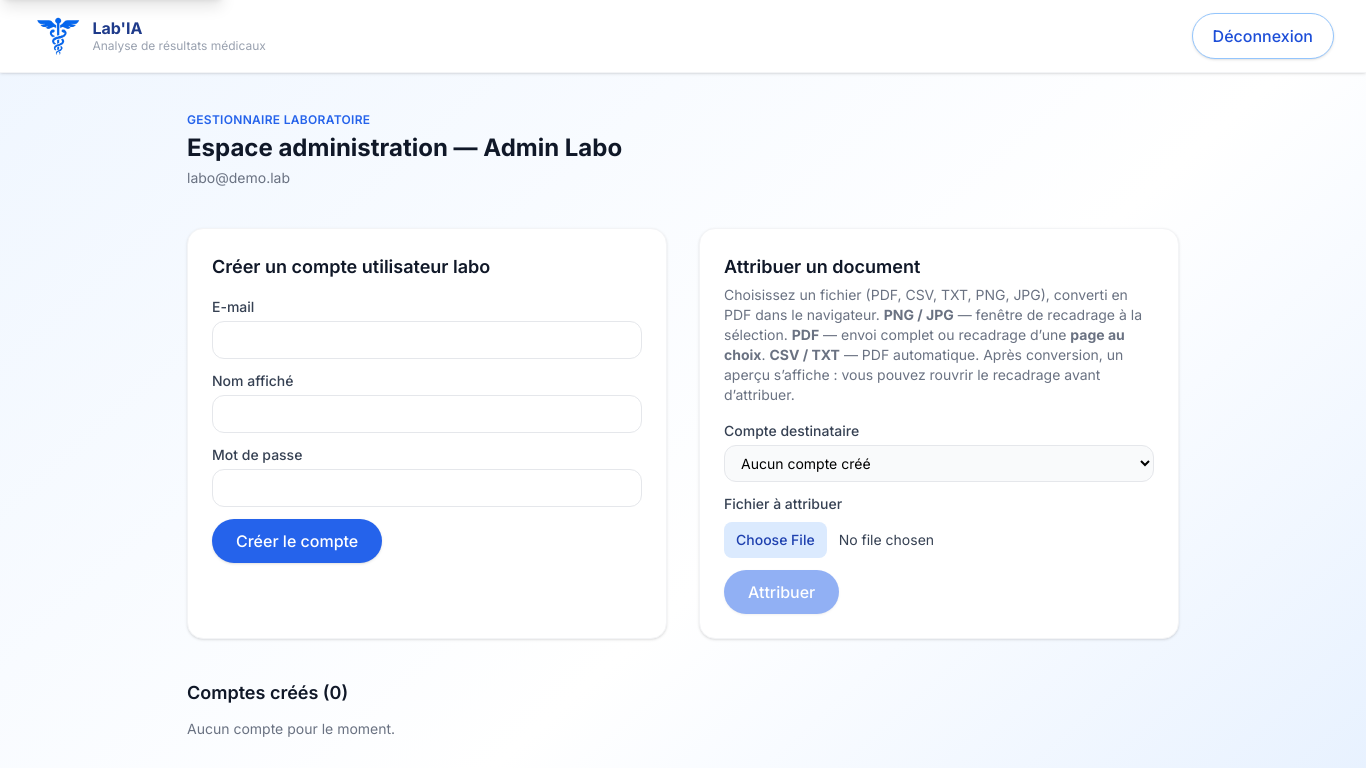
LaboDashboard — intégration › affiche un message d'erreur quand la création de compte échoue
In the field labelled "E-mail": (427, 340) [212,321,642,359], type "alice@test.com"
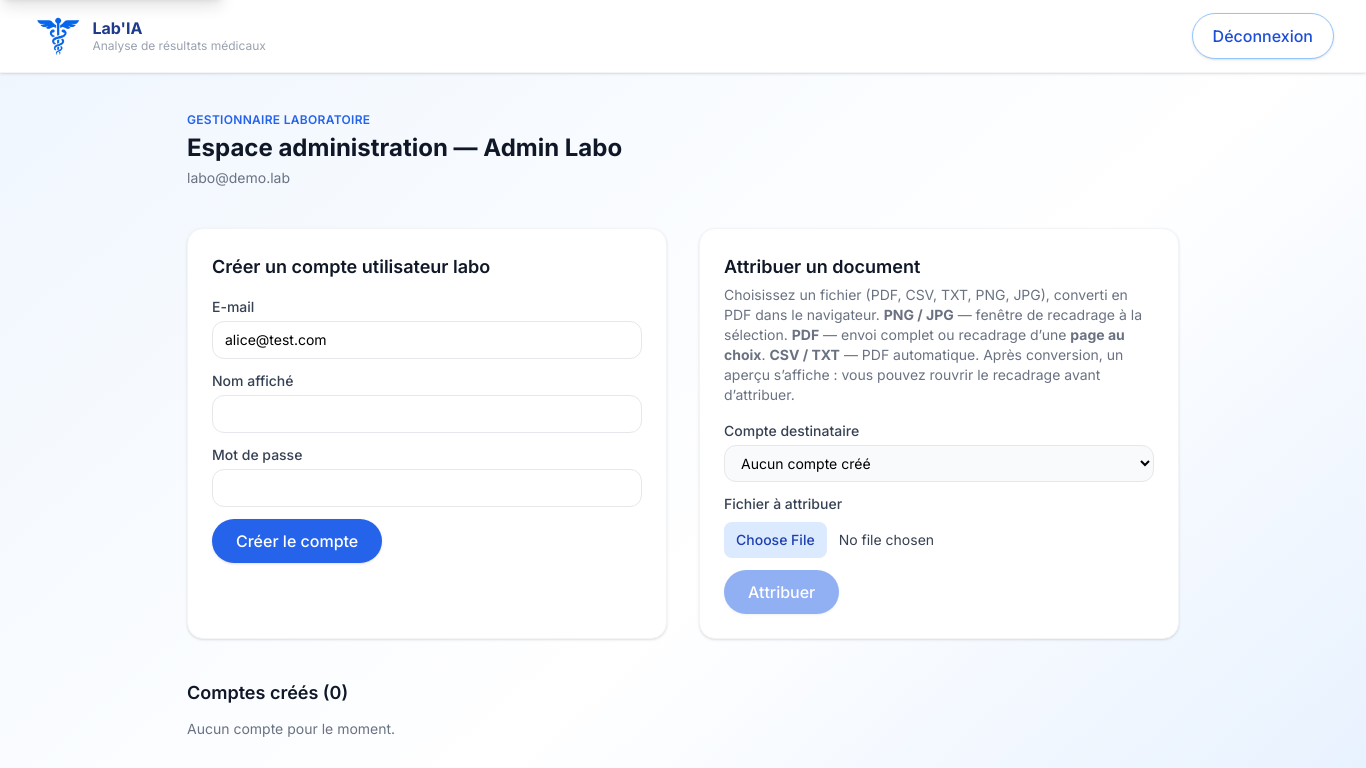
In the field labelled "Nom affiché": (427, 414) [212,395,642,433], type "Alice Martin"
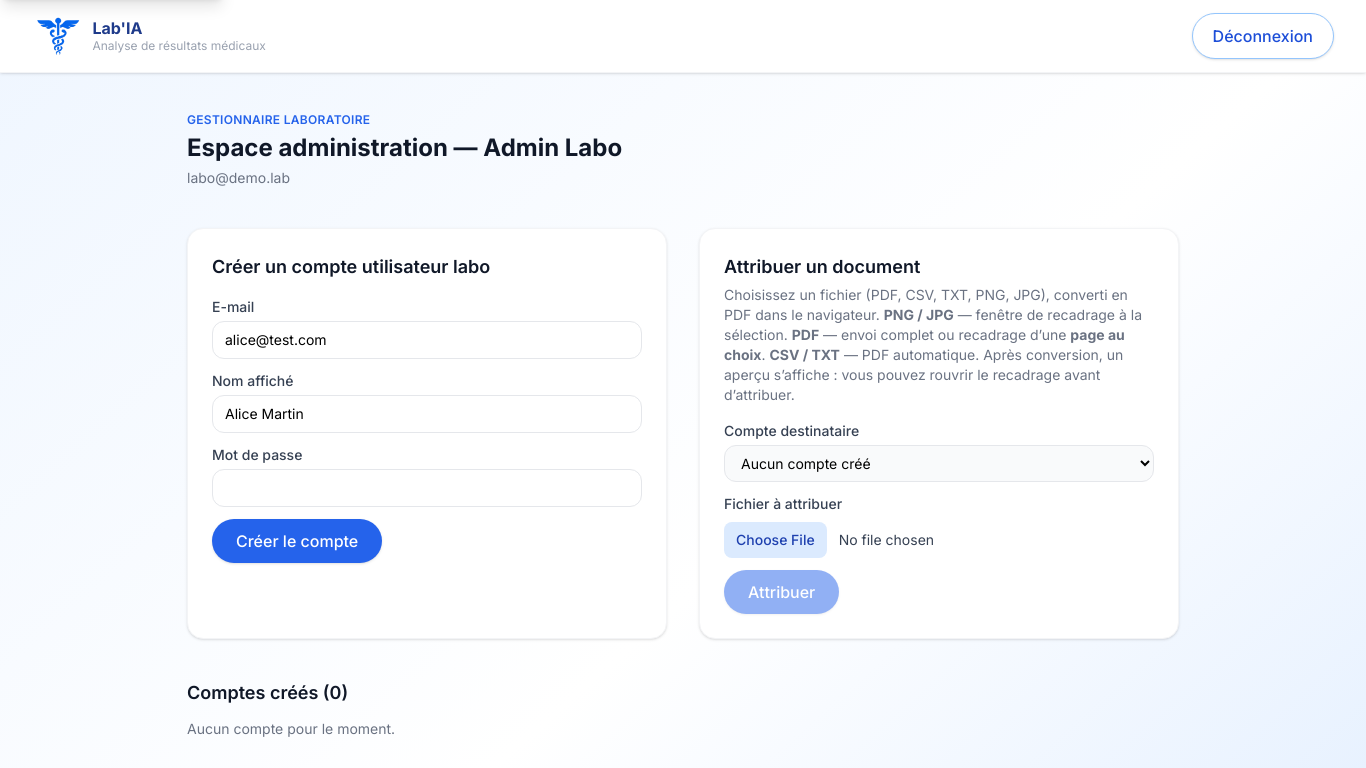
In the password field labelled "Mot de passe": (427, 488) [212,469,642,507], type "motdepasse"
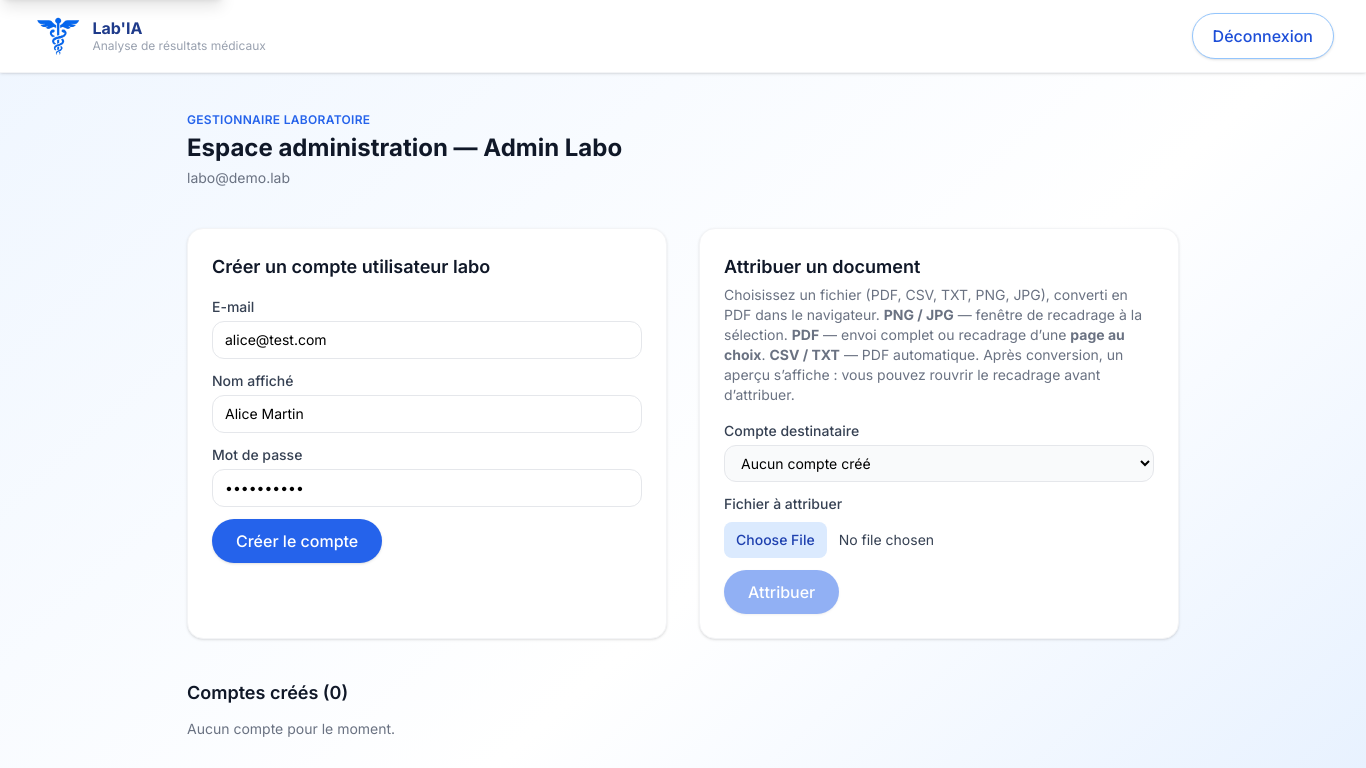
Click the button "Créer le compte": (297, 541) [212,519,382,563]
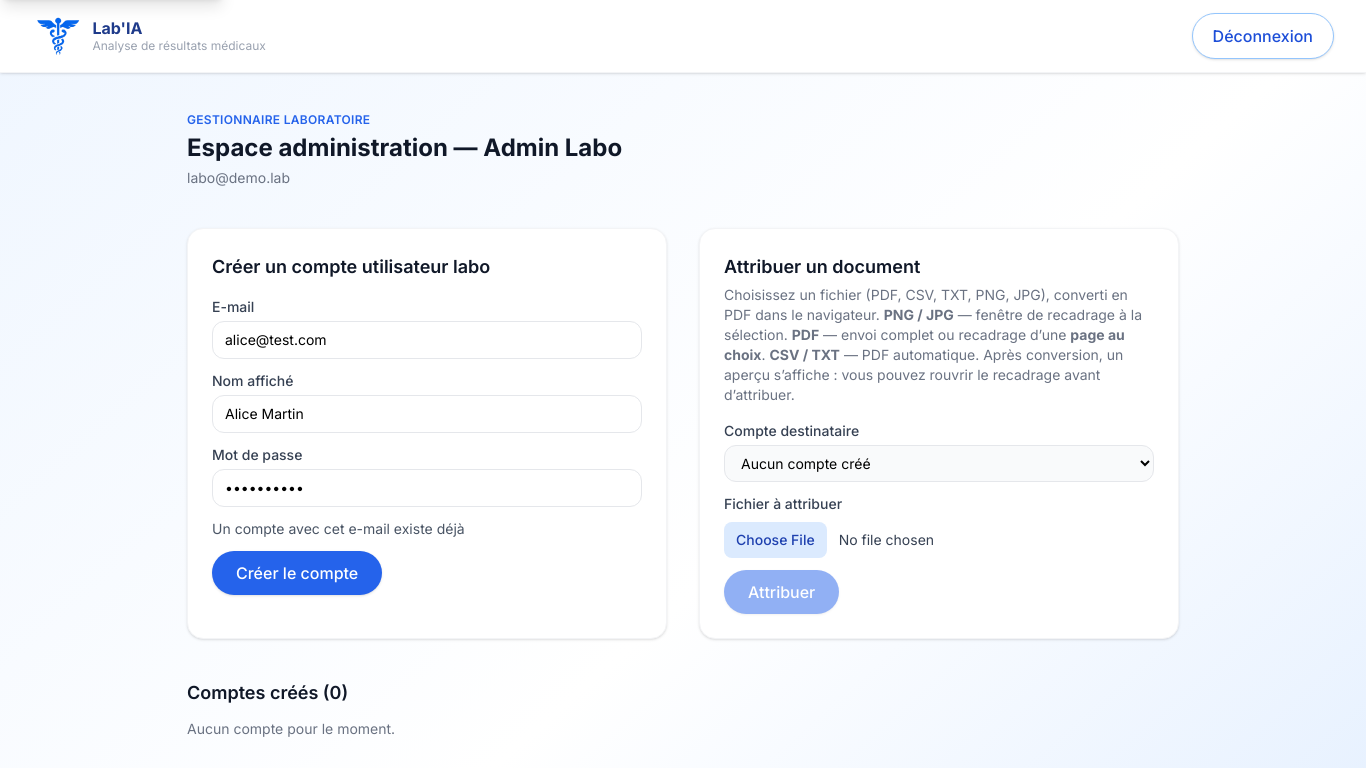
Expected: the text "Un compte avec cet e-mail existe déjà" is shown, [212,520,465,537]
